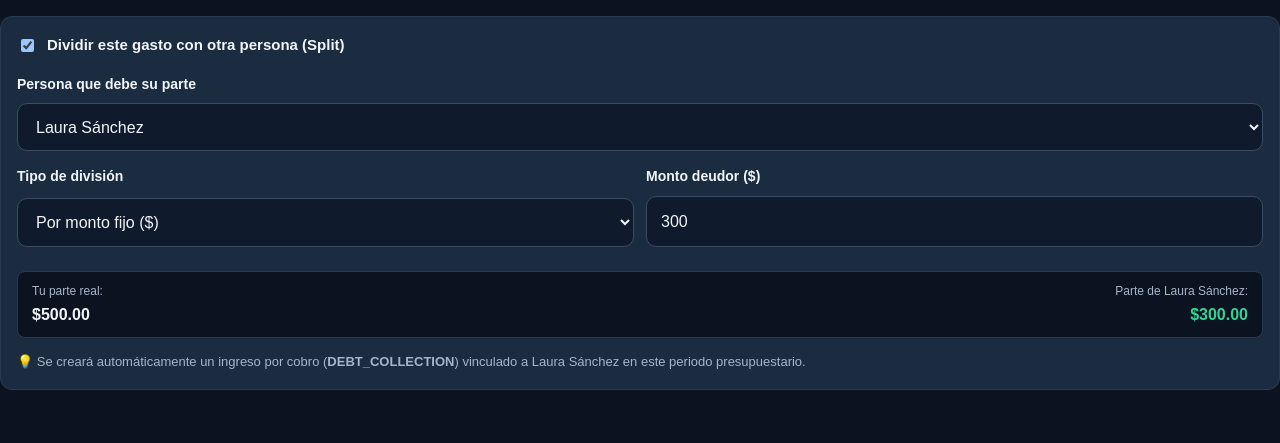
Test: SplitEditor › handles fixed amount split and validates limit
Expected: the text "Parte de Laura Sánchez:" is shown, [1115,282,1248,302]
Expected: the text "$300.00" is shown, [1190,306,1248,323]
Replace the text in the number field labelled "Monto deudor ($)" with "950" at coordinates (954, 222), box [646,196,1263,247]
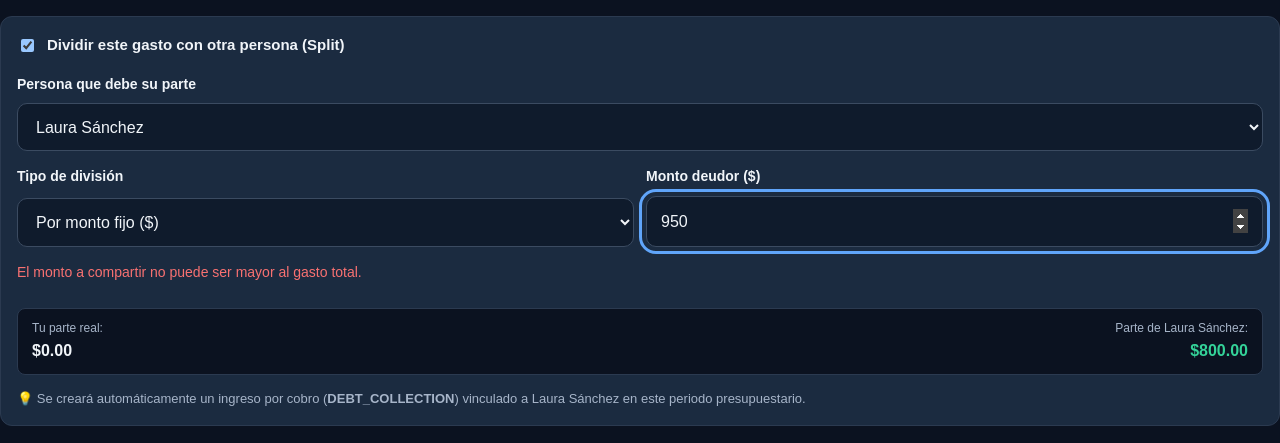
Expected: the text "El monto a compartir no puede ser mayor al gasto total." is shown, [17,264,362,280]
